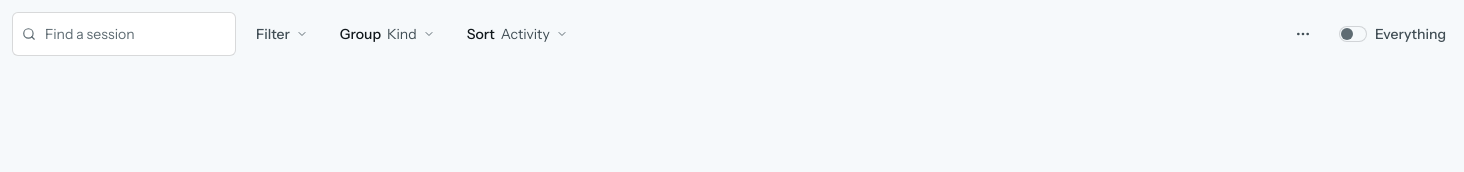
Scenario: the sessions toolbar › keeps the one act beside the page’s own behind ⋯, and says why it cannot be pressed
This screenshot has width=1464, height=172.
Press the mouse on the button named "More actions" at x=1303, y=34, box [1281,12,1325,56]
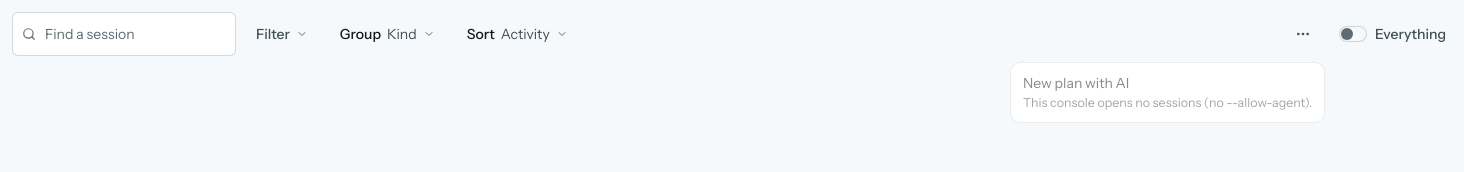
Now the menu item "New plan with AI" shows "This console opens no sessions (no --allow-agent).", box [1015,67,1320,118]
